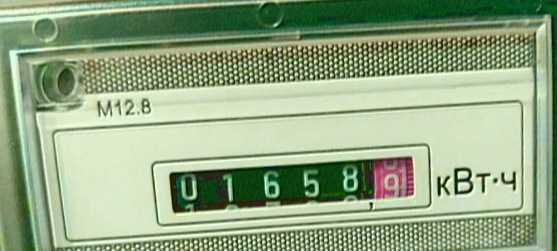0: (176, 169, 199, 203)
1: (220, 171, 235, 203)
5: (300, 166, 321, 199)
6: (260, 168, 282, 200)
8: (339, 162, 360, 195)
9: (380, 171, 399, 198)
screen: (142, 133, 438, 232)
